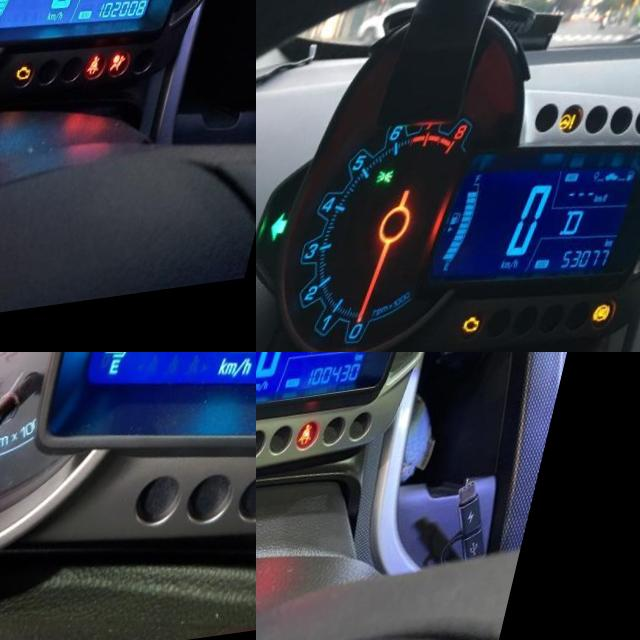SideLamp: (387, 172, 410, 193)
